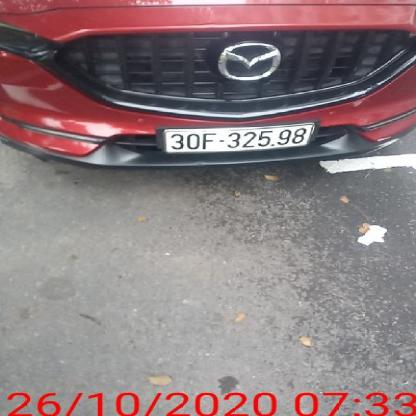biensoxe: (160, 119, 318, 156)
